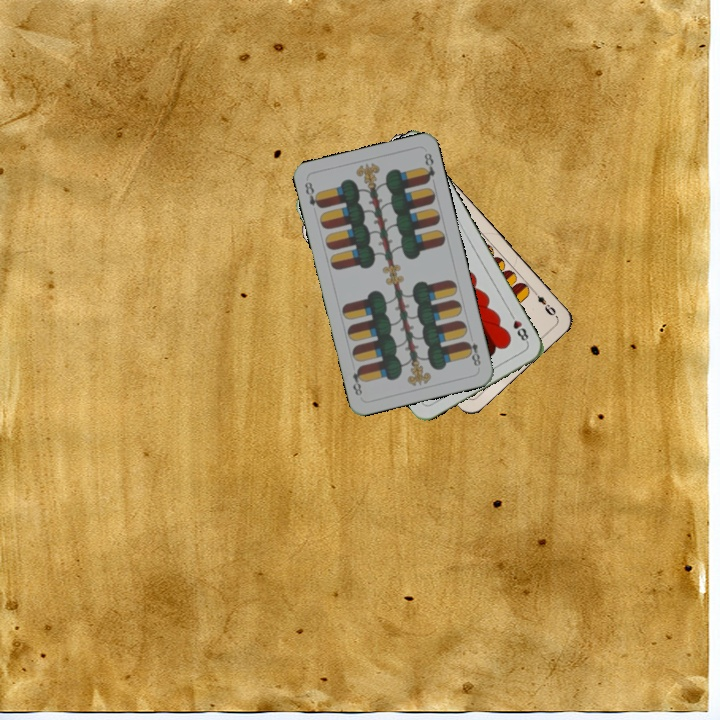E8: (300, 178, 324, 211), (461, 337, 483, 369)
E9: (528, 285, 559, 319)
H8: (505, 308, 531, 346)
